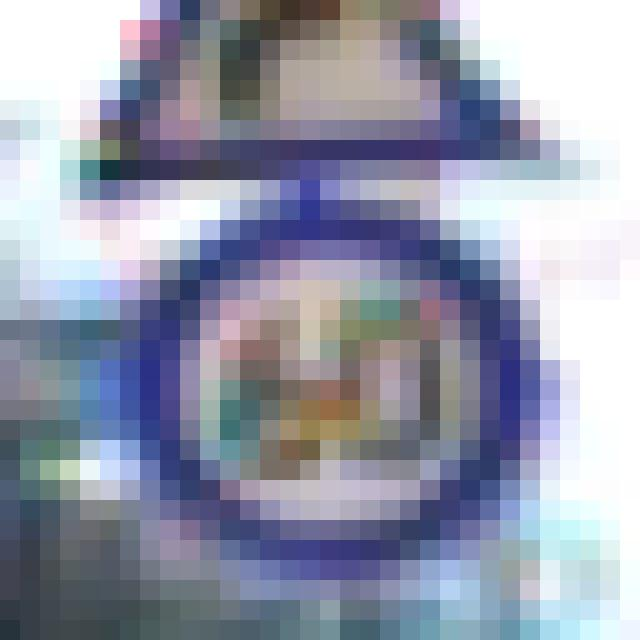SPEED-LIMIT-60: (101, 196, 564, 578)
